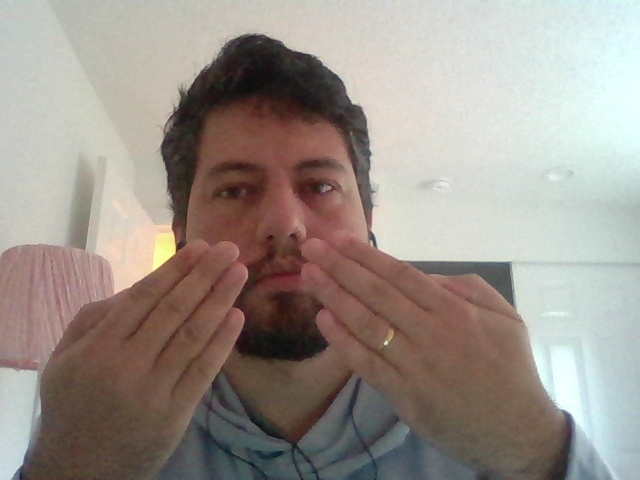ThankYou: (32, 237, 548, 474)
